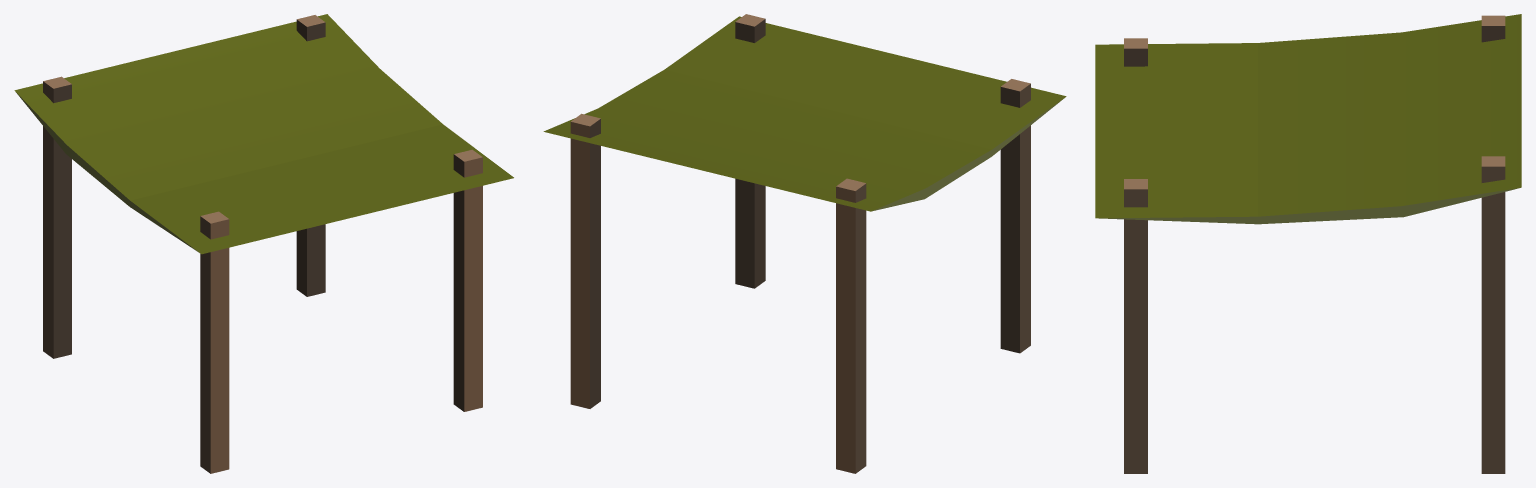
File: TB_D_Prop_StoreTent_Small_D.FBX
3 renders of one model, left to right at view 1: azimuth 30°, elevation 25°; view 2: azimuth 150°, elevation 25°; view 3: azimuth 270°, elevation 25°, orthographic. The views are drawn at different scales.
Visible parts, largest first — view 1: TB_D_Prop_StoreTent_Small_D; view 2: TB_D_Prop_StoreTent_Small_D; view 3: TB_D_Prop_StoreTent_Small_D.
Boxes of the visible parts, x1,y1,x2,y2 form: TB_D_Prop_StoreTent_Small_D: (14, 14, 513, 473); TB_D_Prop_StoreTent_Small_D: (543, 14, 1066, 473); TB_D_Prop_StoreTent_Small_D: (1095, 14, 1521, 473).
Size of the model in its own units: 2.33 by 1.92 by 2.41.
